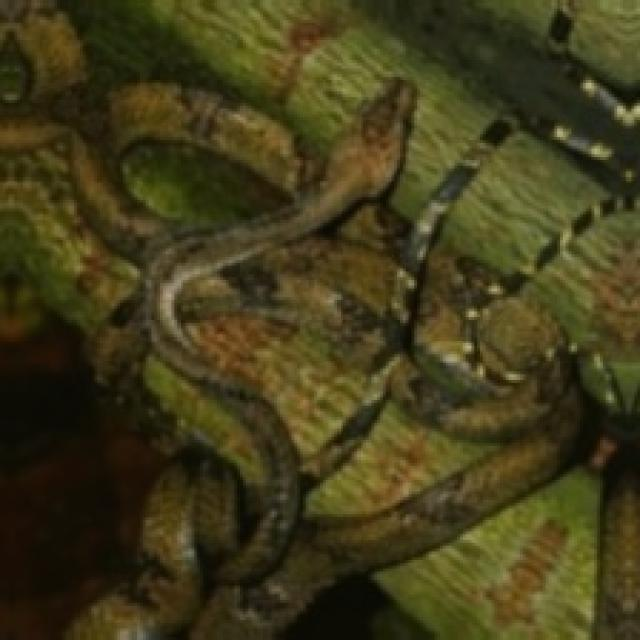dog-toothed cat snake: (0, 0, 637, 637), (0, 0, 326, 637), (340, 86, 409, 183)
